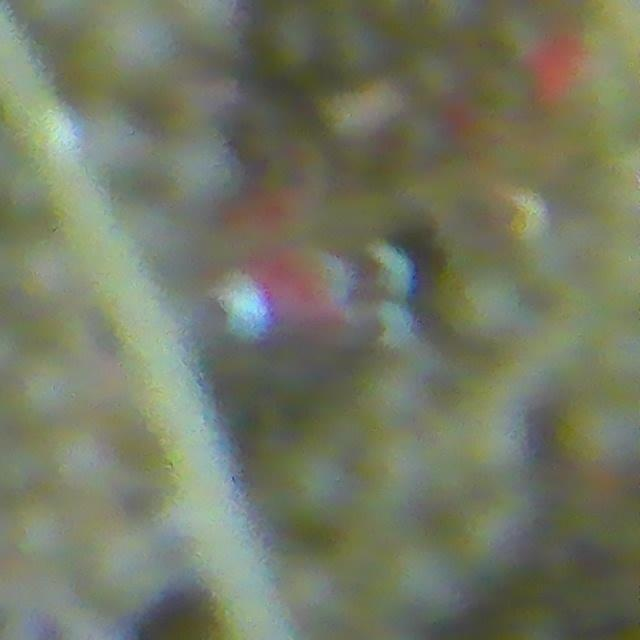SeaGrape: (76, 0, 173, 101), (383, 538, 473, 624), (443, 261, 531, 344), (276, 446, 357, 533), (560, 391, 640, 474), (162, 129, 242, 210), (11, 349, 90, 429), (10, 497, 77, 566), (48, 425, 113, 495)
